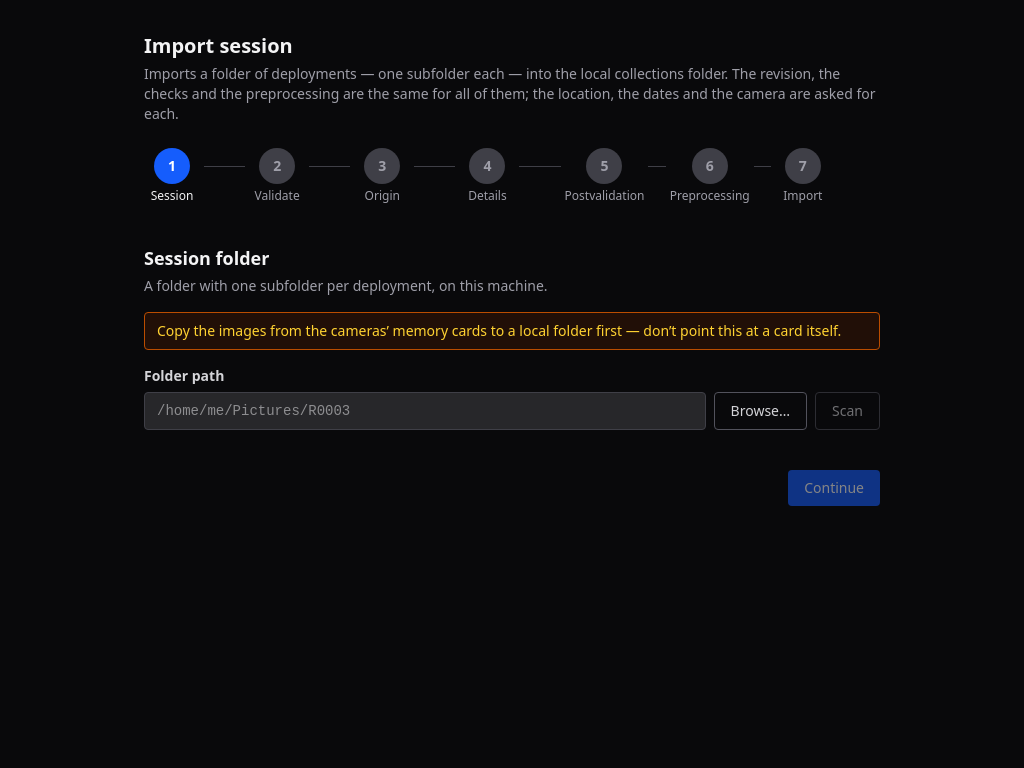
Test case: ImportSessionPage › validates every chosen deployment and holds back when a required check fails in one of them
Click the button "Browse…" at (760, 411), box [714, 392, 807, 430]
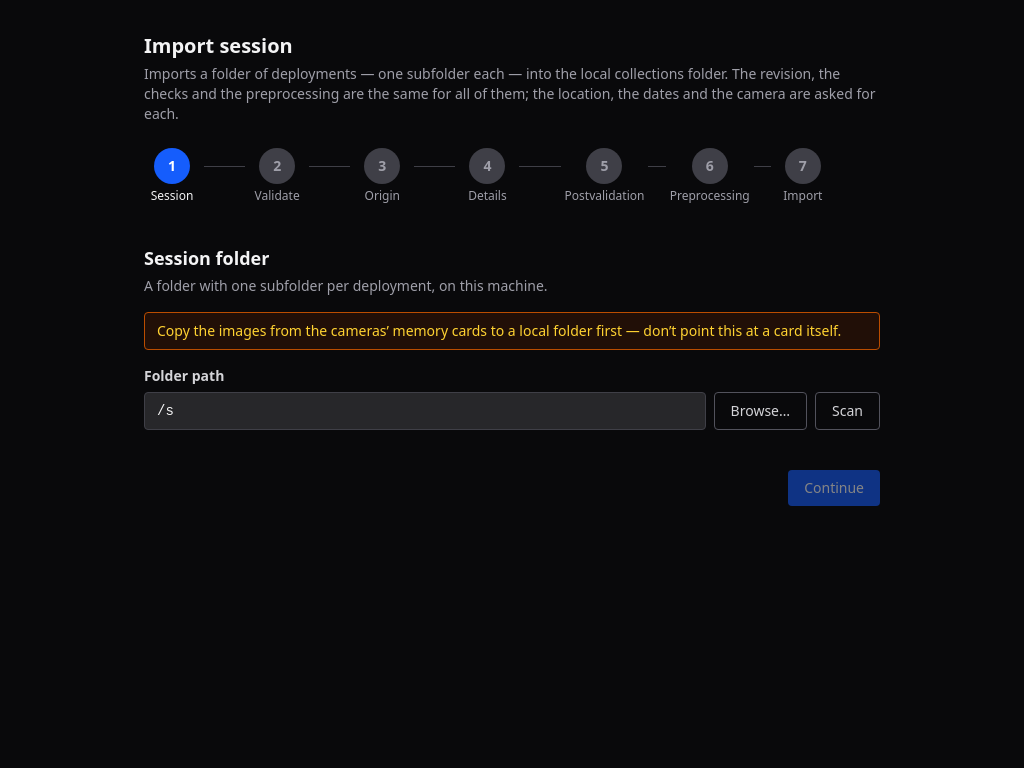
Now the field showing "/s" is shown, box [144, 392, 706, 430]
Click the button "Scan" at (848, 411), box [815, 392, 880, 430]
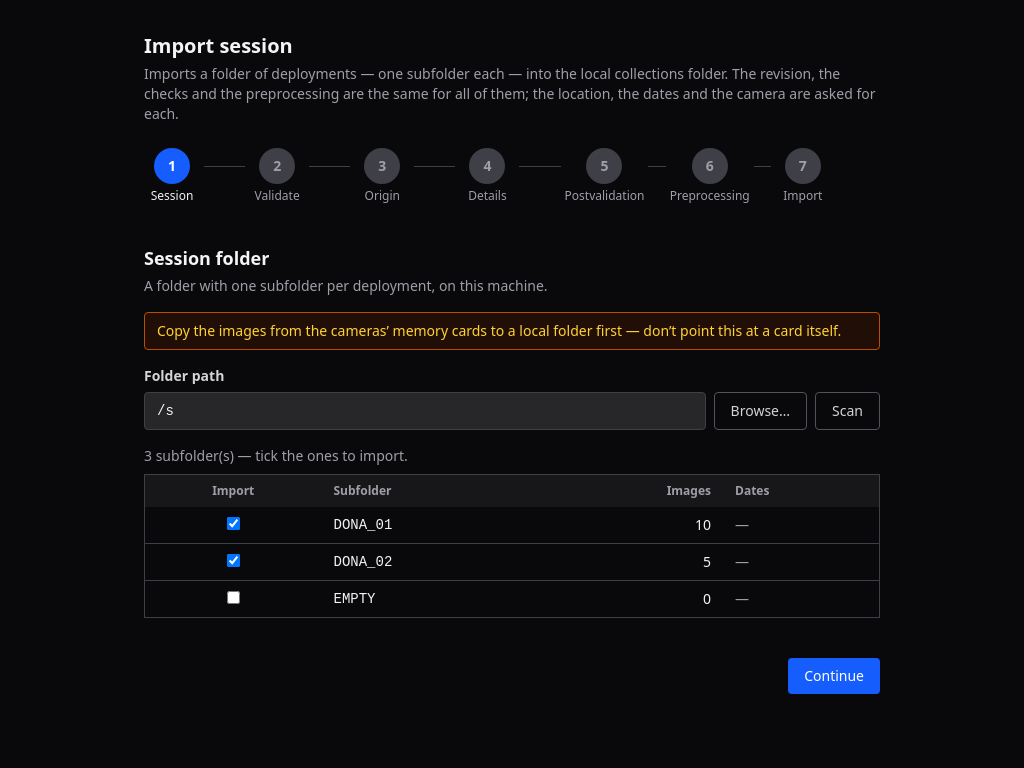
Now the checkbox named "DONA_01" is shown, box [227, 517, 240, 530]
Click the button "Continue" at (834, 676), box [788, 658, 880, 694]
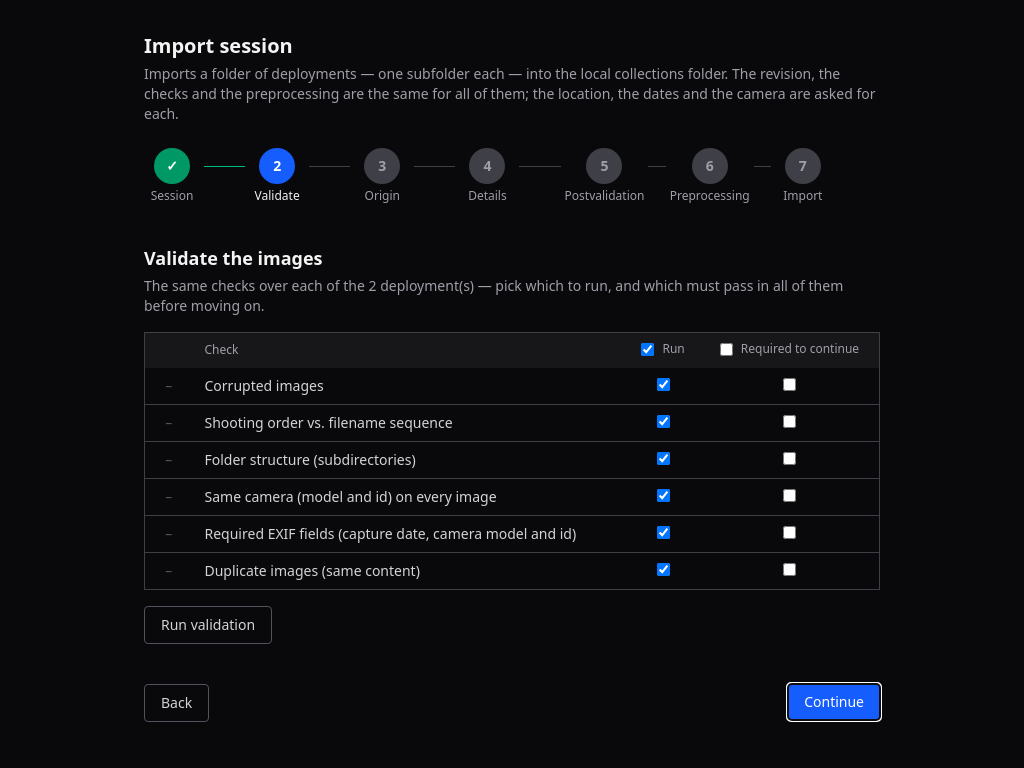
Click the checkbox named "Required to continue" in the row of "Corrupted images" at (790, 384), box [783, 378, 796, 390]
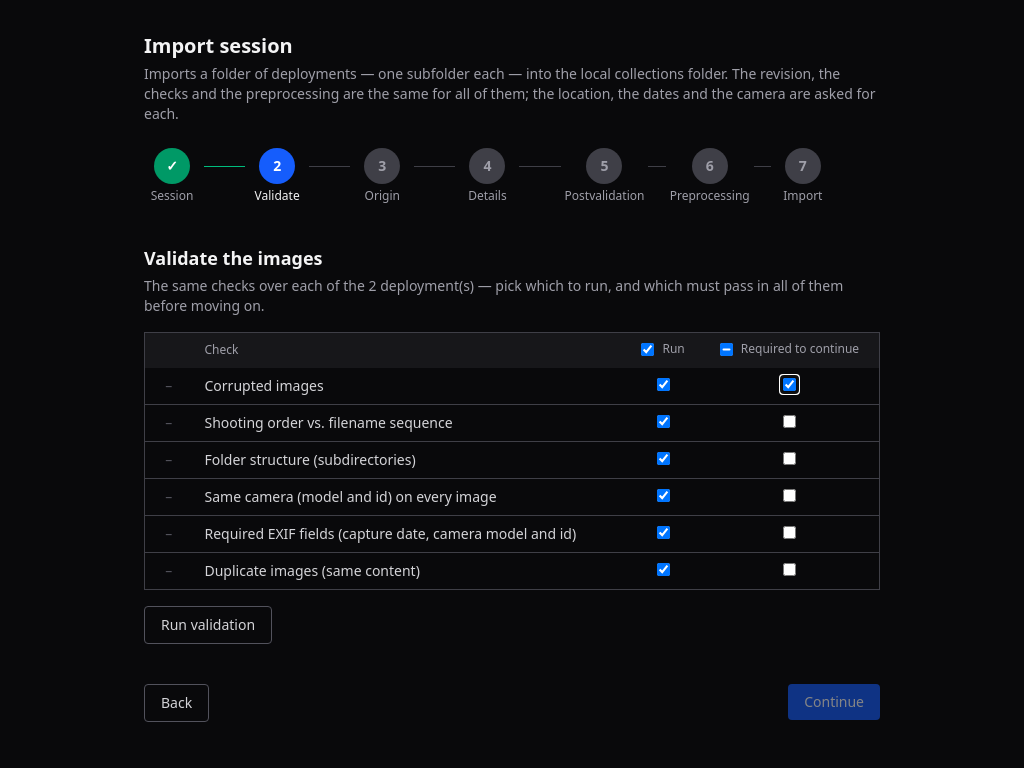
Click the button "Run validation" at (208, 624), box [144, 606, 272, 644]
(page scrolled)
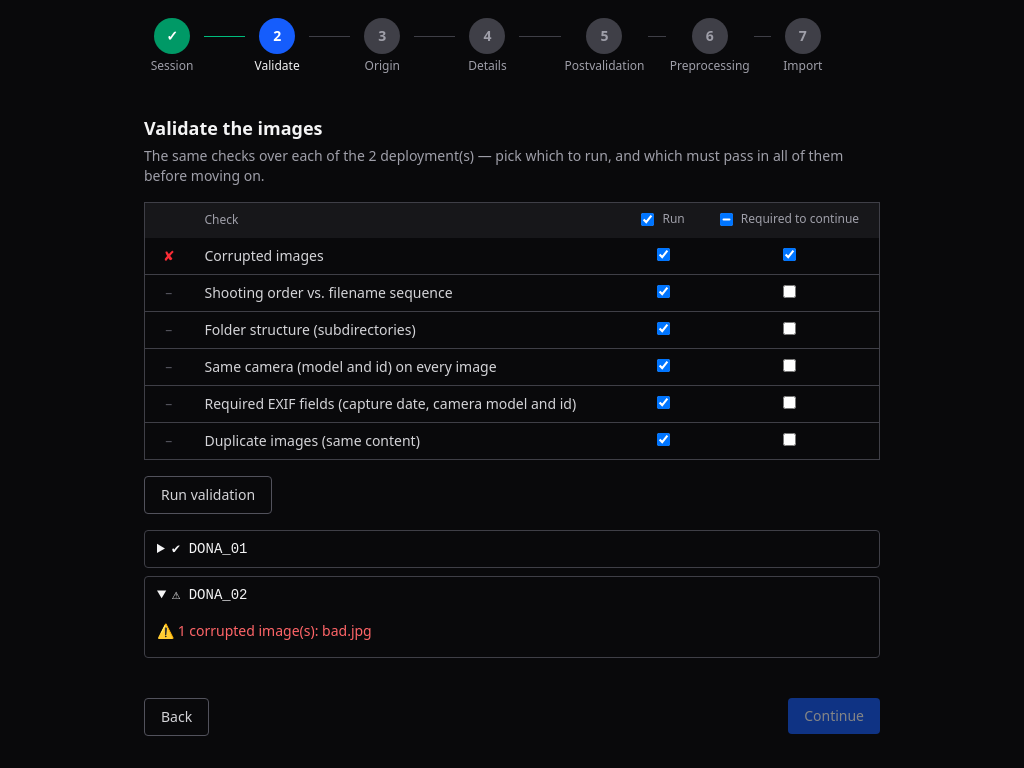
Now the button "Continue" is disabled, box [788, 698, 880, 734]
Now the text "⚠ 1 corrupted image(s): bad.jpg" is shown, box [157, 620, 372, 640]
